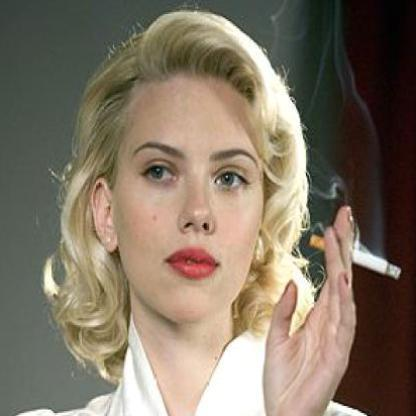cigarette: (310, 233, 403, 280)
person: (47, 33, 332, 415)
